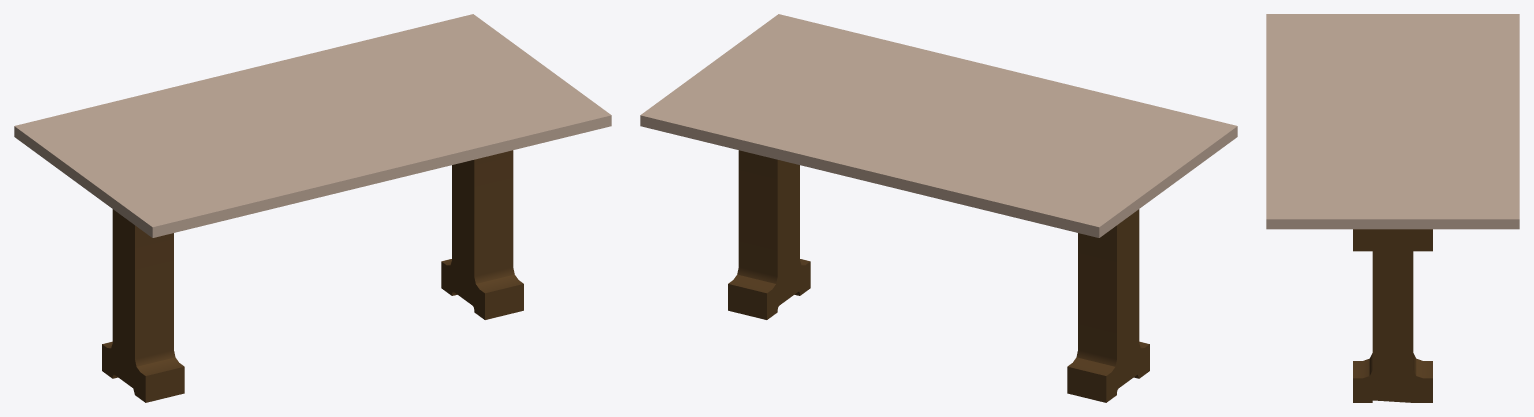
Rendered from Table.fbx.
3 views of the same model, side by side, from view 1: azimuth 30°, elevation 25°; view 2: azimuth 150°, elevation 25°; view 3: azimuth 270°, elevation 25° (orthographic). The views are drawn at different scales.
Visible parts, largest first — view 1: Table, Pillar; view 2: Table, Pillar; view 3: Table, Pillar.
Boxes of the visible parts, bbox=[...] form: Table: bbox=[14, 14, 611, 237]; Pillar: bbox=[102, 150, 523, 402]; Table: bbox=[640, 14, 1237, 237]; Pillar: bbox=[728, 150, 1149, 402]; Table: bbox=[1266, 14, 1519, 229]; Pillar: bbox=[1353, 229, 1432, 402].
Bounding box in the file's own units: 13.1 × 6.01 × 6.84.
